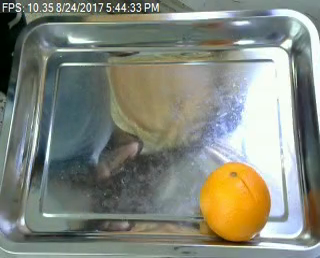Orange: (197, 162, 270, 241)
